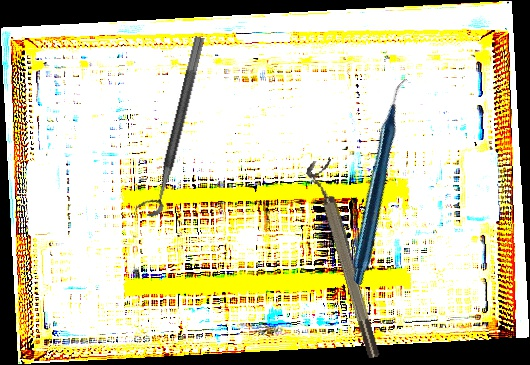Fixation Ring: (303, 156, 384, 363), (134, 31, 206, 220)
Handpiece: (276, 78, 489, 286)
